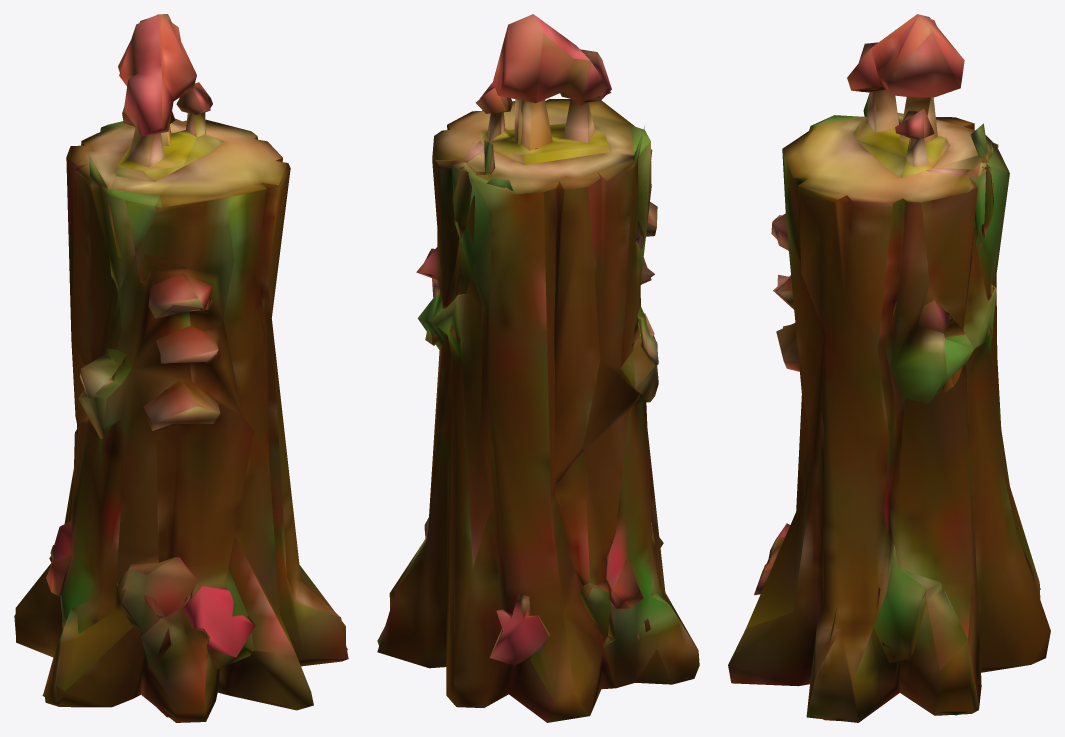
The model's file is stump.glb.
3 renders of one model, left to right at view 1: azimuth 30°, elevation 25°; view 2: azimuth 150°, elevation 25°; view 3: azimuth 270°, elevation 25°, orthographic.
Bounding box in the file's own units: 0.4625 × 1 × 0.4586.
1 material, 1 textured.
